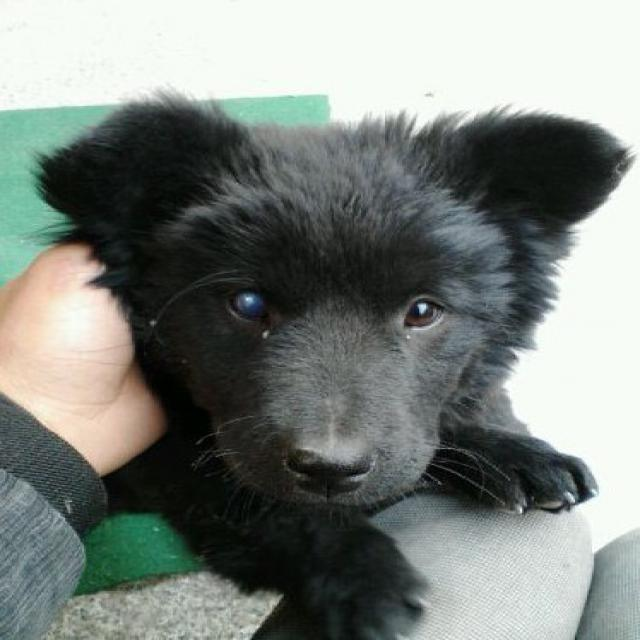eye: (223, 284, 279, 328), (399, 291, 452, 335)
